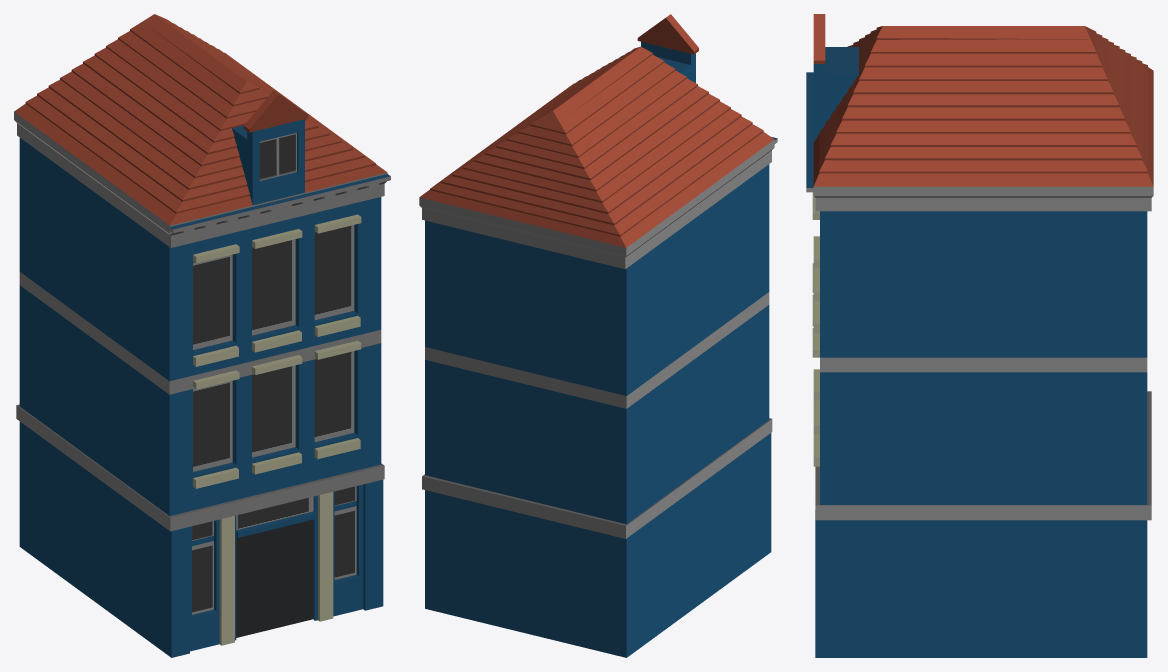
The model's file is SA_Bld_OfficeOld_Clean_01.gltf.
3 renders of one model, left to right at view 1: azimuth 30°, elevation 25°; view 2: azimuth 150°, elevation 25°; view 3: azimuth 270°, elevation 25°, orthographic. The views are drawn at different scales.
Visible parts, largest first — view 1: SA_Bld_OfficeOld_Clean_01; view 2: SA_Bld_OfficeOld_Clean_01; view 3: SA_Bld_OfficeOld_Clean_01.
Boxes of the visible parts, bbox=[...] form: SA_Bld_OfficeOld_Clean_01: bbox=[14, 14, 390, 657]; SA_Bld_OfficeOld_Clean_01: bbox=[419, 14, 777, 657]; SA_Bld_OfficeOld_Clean_01: bbox=[806, 14, 1153, 657].
Bounding box in the file's own units: 8.52 × 20.16 × 10.79.
1 material, 1 textured.
